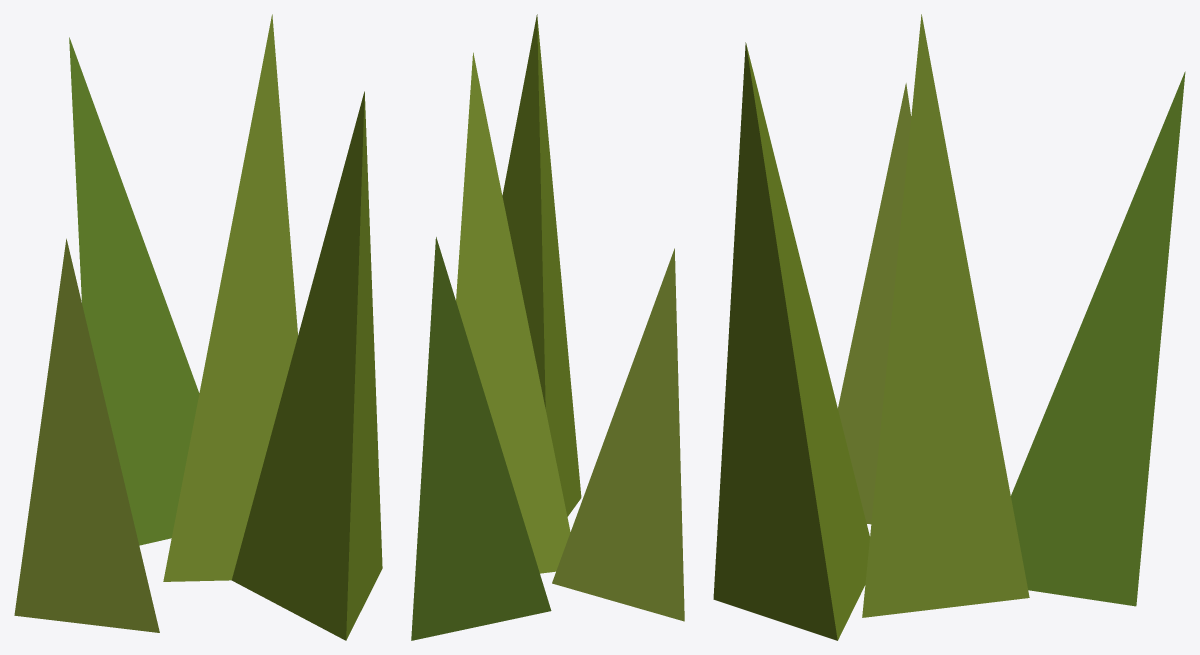
File: p_gtuft_1.glb
3 views of the same model, side by side, from view 1: azimuth 30°, elevation 25°; view 2: azimuth 150°, elevation 25°; view 3: azimuth 270°, elevation 25° (orthographic). The views are drawn at different scales.
Visible parts, largest first — view 1: body; view 2: body; view 3: body.
Part boxes in pixels (<box>): body: <box>14,14,382,640</box>; body: <box>411,14,684,640</box>; body: <box>713,14,1185,640</box>.
Size of the model in its own units: 0.2401 by 0.4081 by 0.2866.
